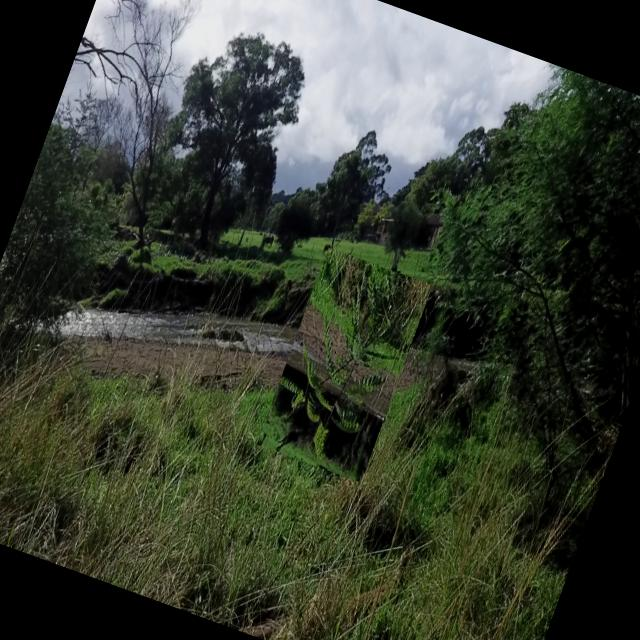Mysore-Thorn-Weed: (256, 248, 432, 482)
